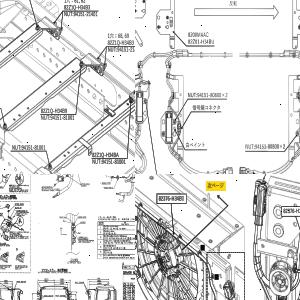PartNumber: (64, 3, 90, 11), (92, 152, 120, 158), (102, 159, 126, 166), (41, 108, 68, 114), (188, 38, 215, 44), (108, 39, 134, 45), (158, 195, 184, 201), (50, 114, 75, 120), (21, 144, 46, 150), (255, 143, 280, 149), (74, 12, 98, 18), (197, 92, 221, 98), (116, 46, 135, 52), (283, 207, 300, 213), (15, 203, 24, 205), (17, 210, 26, 212), (41, 186, 50, 188), (102, 182, 110, 184), (104, 187, 113, 188)
